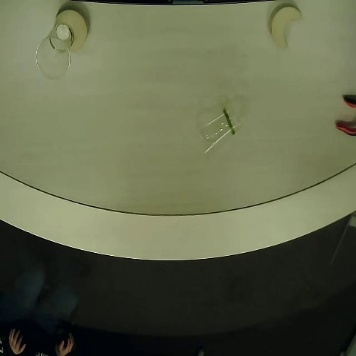empty_cup: (35, 22, 77, 84), (198, 107, 247, 160)
puck: (56, 7, 89, 52), (269, 3, 302, 48)
